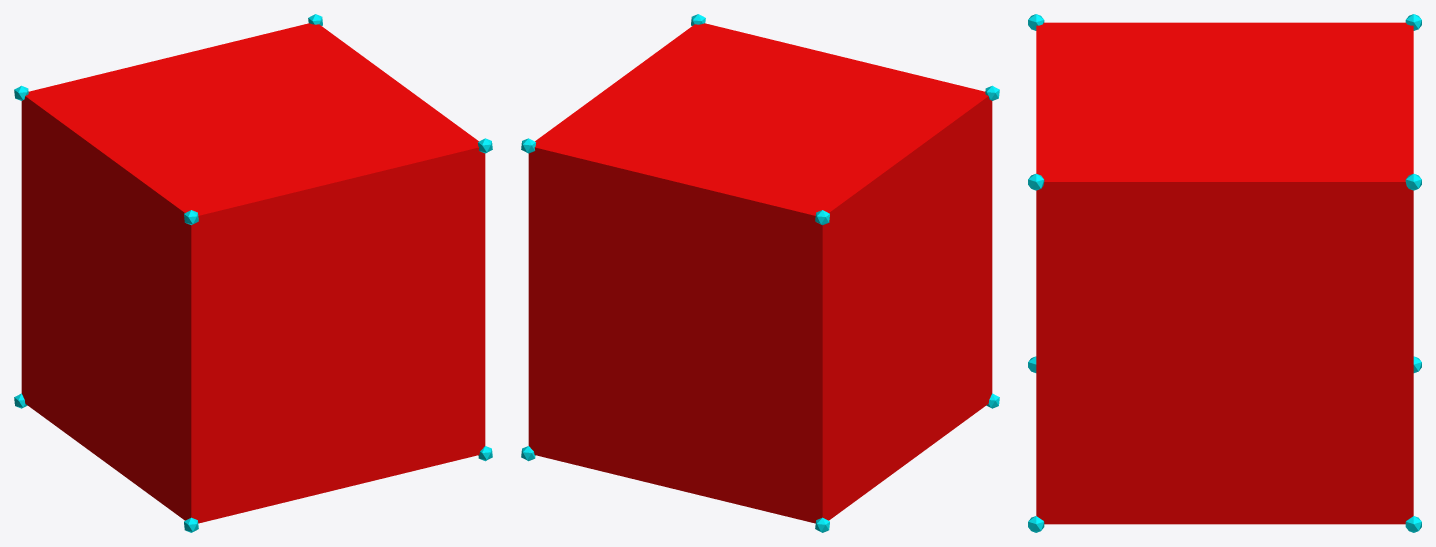
File: cubo_vertices.glb
3 renders of one model, left to right at view 1: azimuth 30°, elevation 25°; view 2: azimuth 150°, elevation 25°; view 3: azimuth 270°, elevation 25°, orthographic. The views are drawn at different scales.
Parts seen in each view (by area): view 1: Box002, Box001; view 2: Box002, Box001; view 3: Box002, Box001.
Boxes of the visible parts, x1=… form: Box002: x1=21, y1=23, x2=485, y2=523; Box001: x1=14, y1=14, x2=492, y2=532; Box002: x1=528, y1=23, x2=992, y2=523; Box001: x1=521, y1=14, x2=999, y2=532; Box002: x1=1036, y1=22, x2=1413, y2=524; Box001: x1=1028, y1=14, x2=1421, y2=532.
Bounding box in the file's own units: 0.5307 × 0.5334 × 0.5296.
